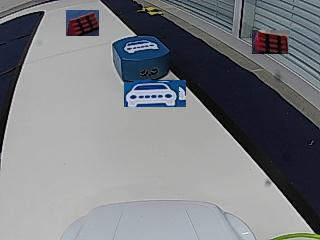safety: (124, 39, 158, 53)
